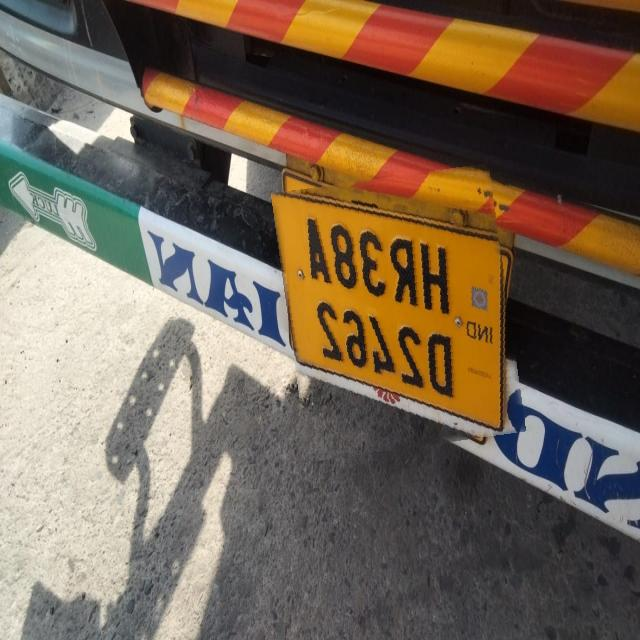License-plate: (275, 193, 509, 434)
